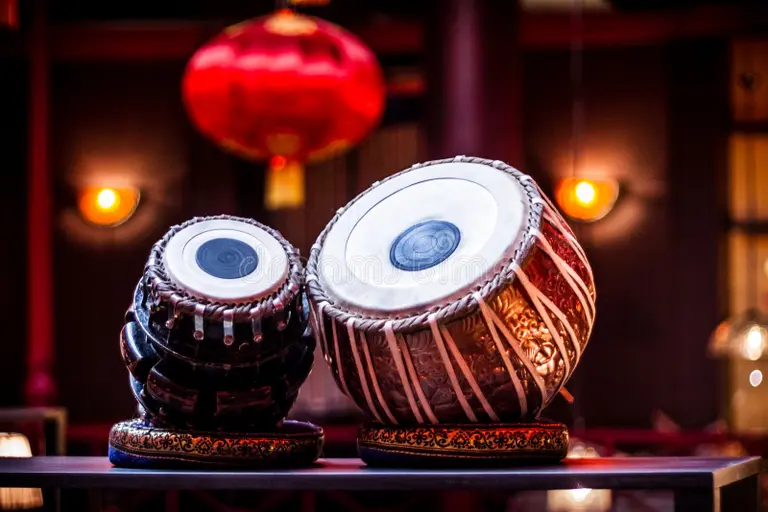tabla: (313, 155, 595, 423), (122, 214, 313, 433)
